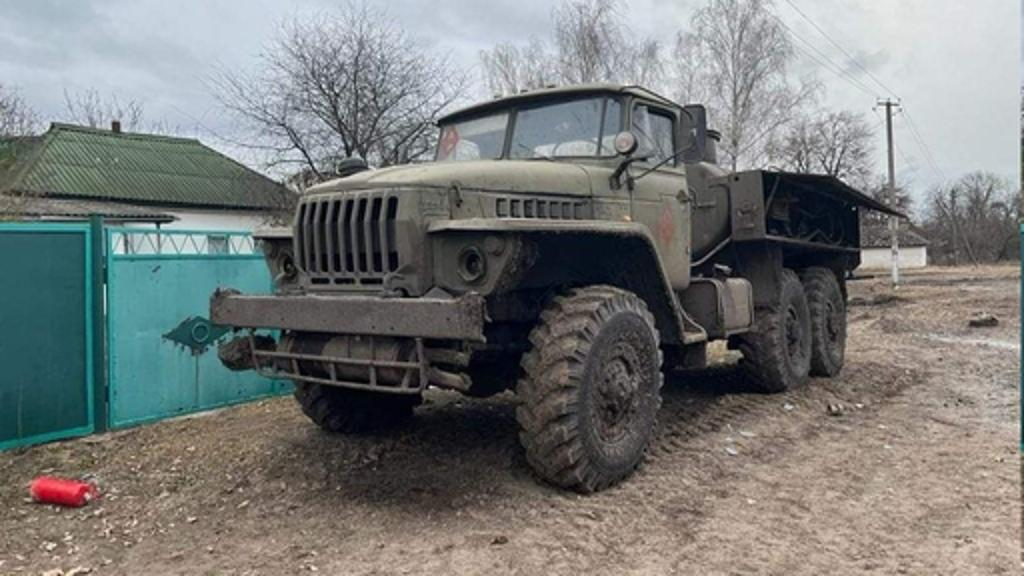TRUCK: (194, 66, 886, 480)
